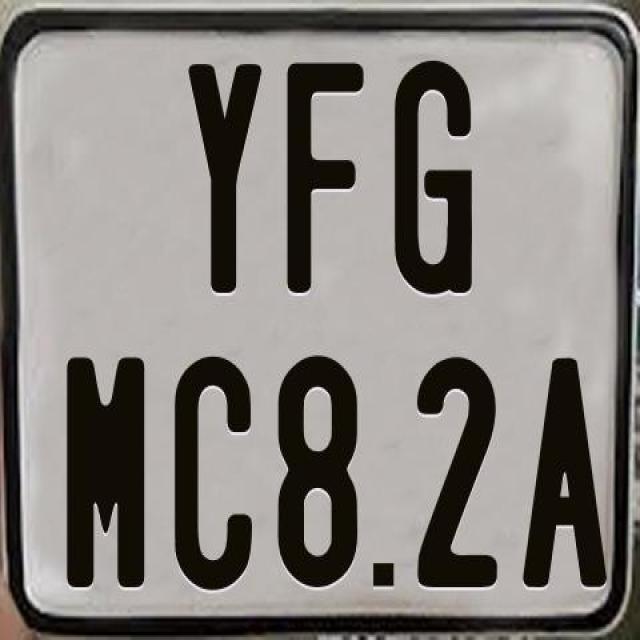2: (416, 356, 496, 590)
8: (278, 352, 358, 587)
A: (522, 357, 612, 592)
C: (170, 352, 254, 594)
F: (283, 61, 367, 293)
G: (394, 56, 478, 296)
M: (65, 352, 151, 586)
Y: (184, 59, 260, 290)
